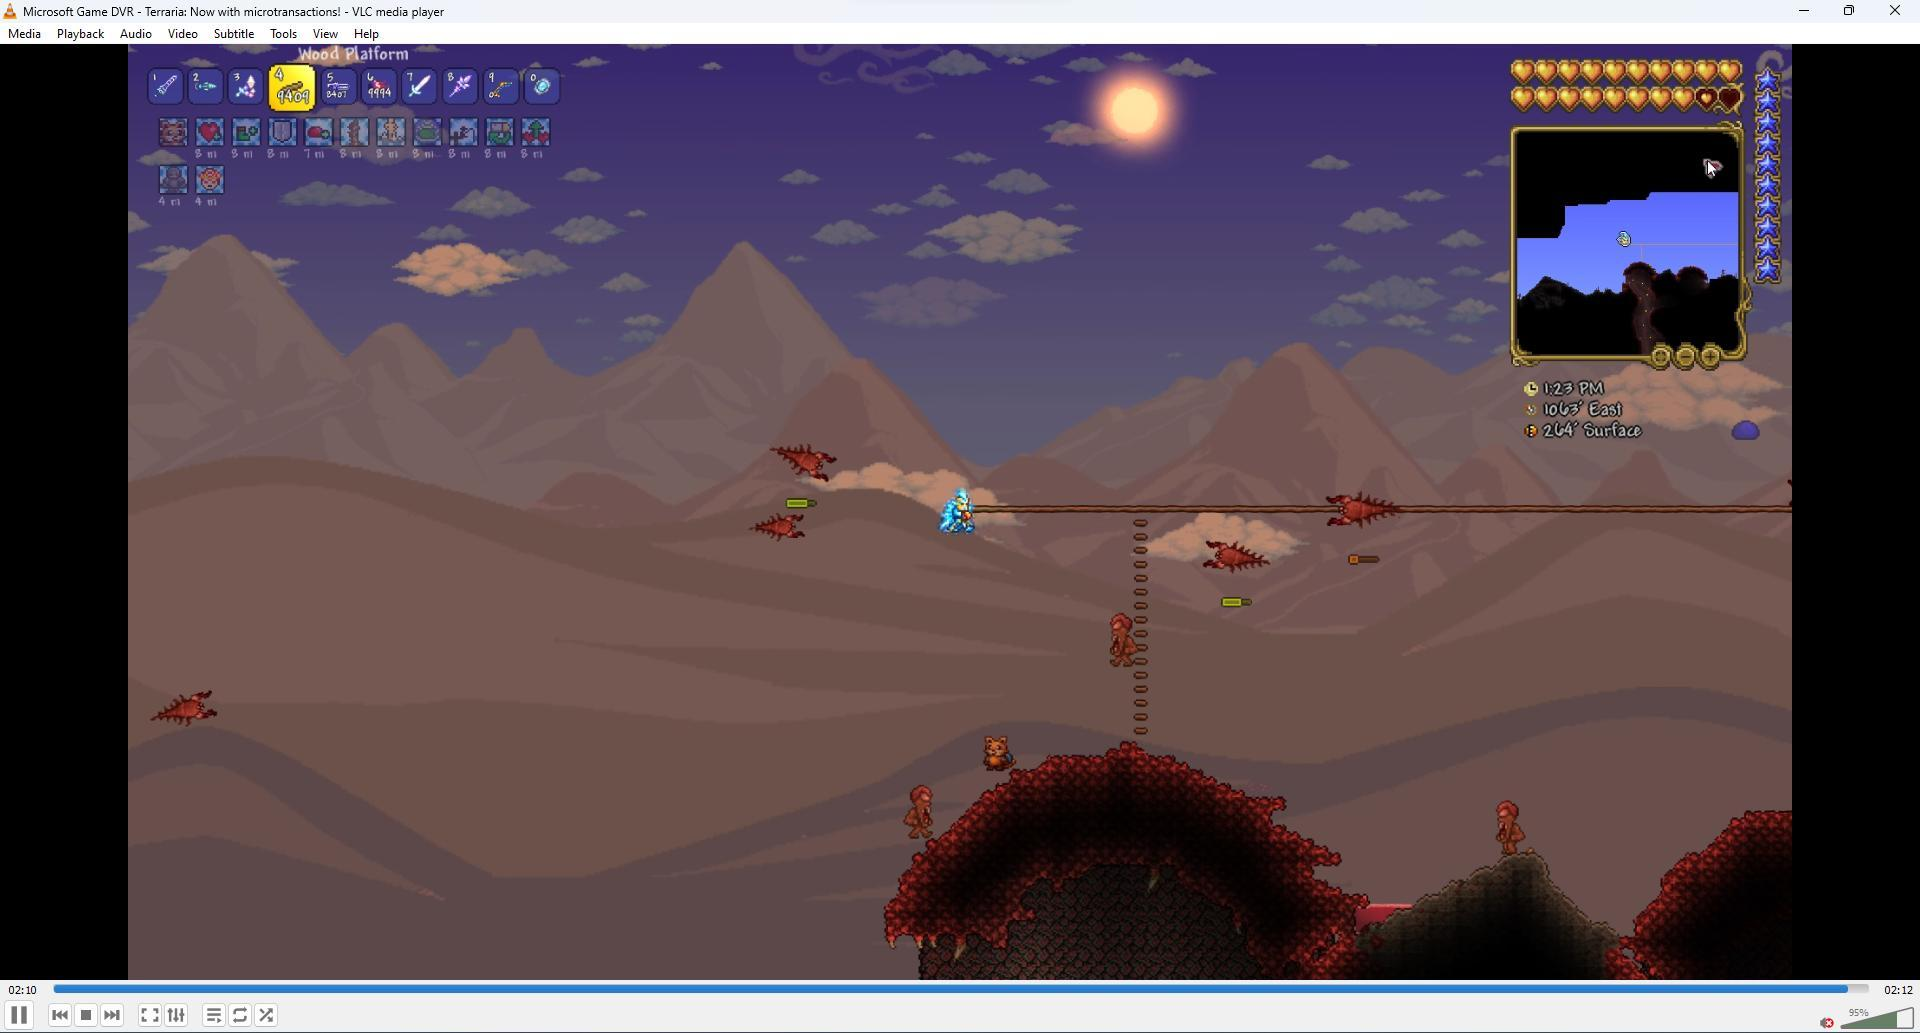crimera: (150, 681, 217, 729), (1203, 536, 1274, 580), (773, 440, 842, 486), (1325, 487, 1396, 528), (751, 497, 806, 543)
slime: (1733, 417, 1766, 444)
